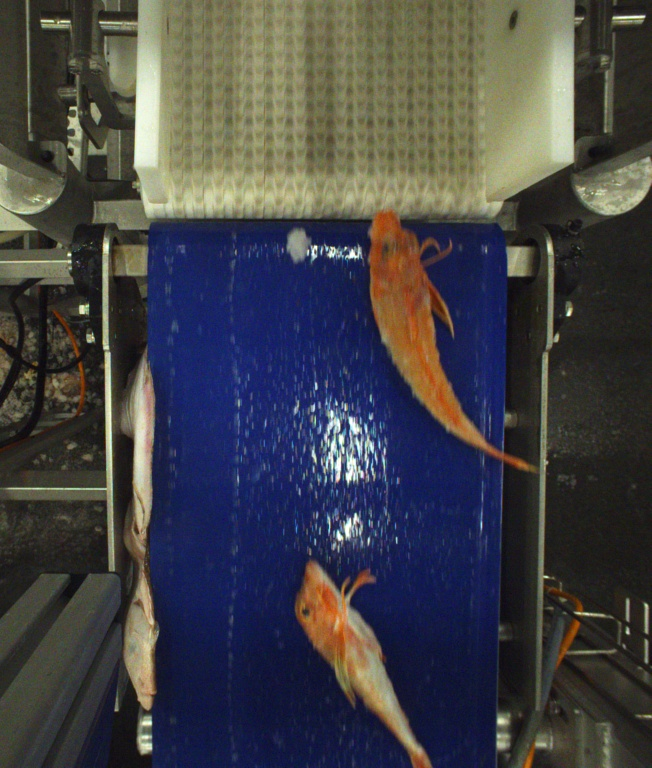GUU: (363, 209, 535, 475)
